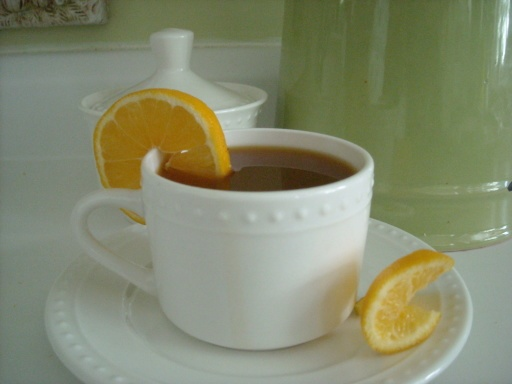background: (82, 65, 363, 212), (73, 52, 286, 115)
